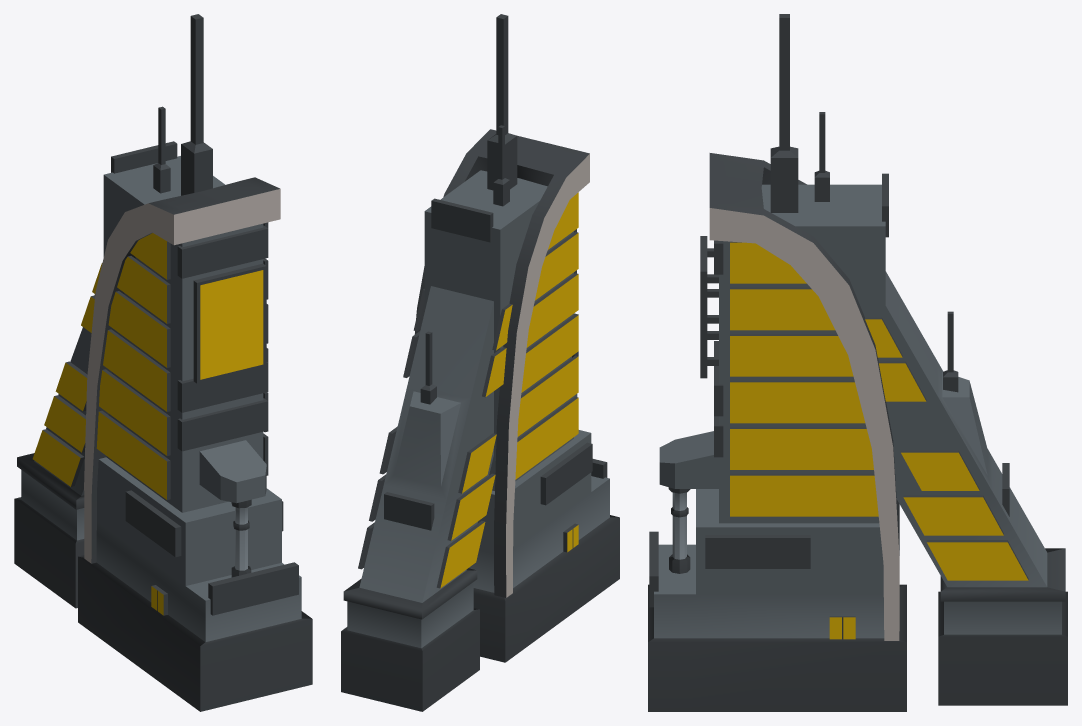
Rendered from SM_Bld_Background_Building_03.fbx.
3 renders of one model, left to right at view 1: azimuth 30°, elevation 25°; view 2: azimuth 150°, elevation 25°; view 3: azimuth 270°, elevation 25°, orthographic. The views are drawn at different scales.
Visible parts, largest first — view 1: SM_Bld_Background_Building_03; view 2: SM_Bld_Background_Building_03; view 3: SM_Bld_Background_Building_03.
Boxes of the visible parts, x1,y1,x2,y2 form: SM_Bld_Background_Building_03: (14, 14, 312, 711); SM_Bld_Background_Building_03: (341, 14, 619, 711); SM_Bld_Background_Building_03: (648, 14, 1067, 711).
Size of the model in its own units: 1310 by 7065 by 4013.
